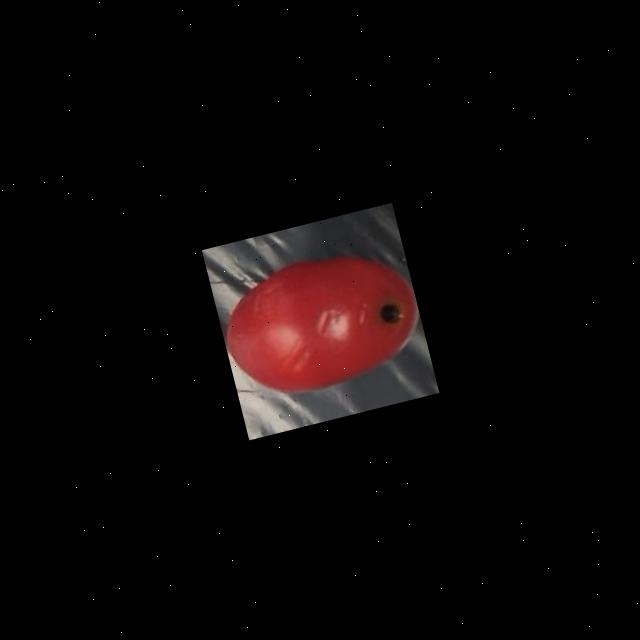tomato: (209, 235, 432, 409)
